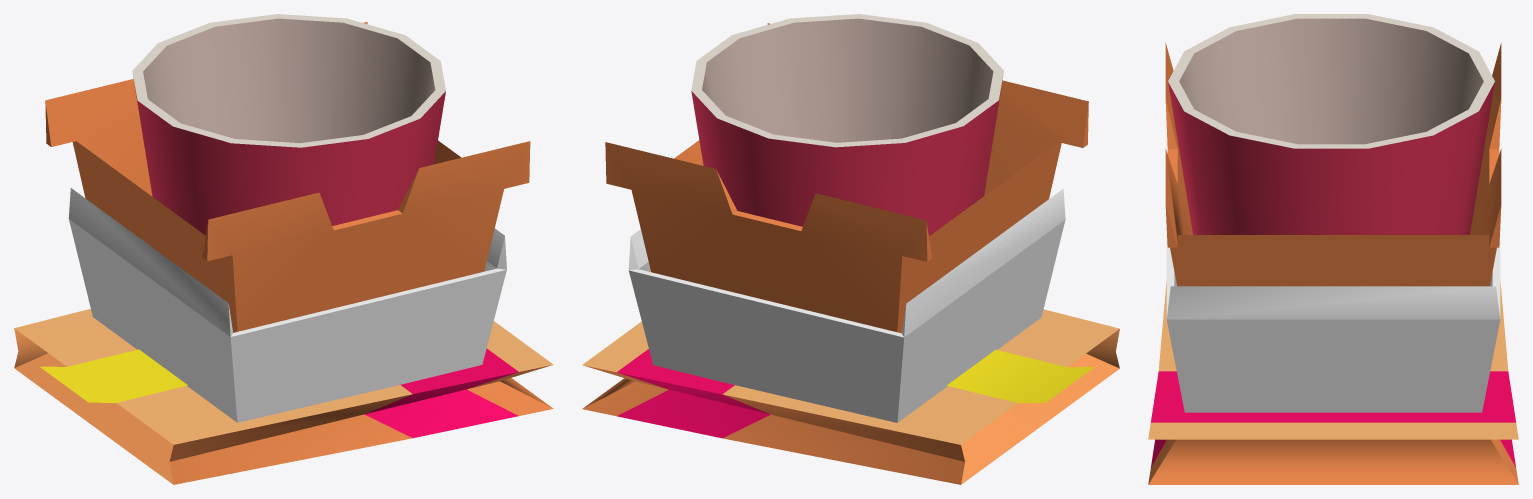
The model's file is Stock_Takeout_geo.fbx.
3 renders of one model, left to right at view 1: azimuth 30°, elevation 25°; view 2: azimuth 150°, elevation 25°; view 3: azimuth 270°, elevation 25°, orthographic. The views are drawn at different scales.
Visible parts, largest first — view 1: Stock_Takeout_geo; view 2: Stock_Takeout_geo; view 3: Stock_Takeout_geo.
Part boxes in pixels (x1=…): Stock_Takeout_geo: x1=14, y1=14, x2=553, y2=484; Stock_Takeout_geo: x1=582, y1=14, x2=1119, y2=484; Stock_Takeout_geo: x1=1148, y1=14, x2=1518, y2=484.
Bounding box in the file's own units: 0.7719 × 0.6007 × 0.5638.
